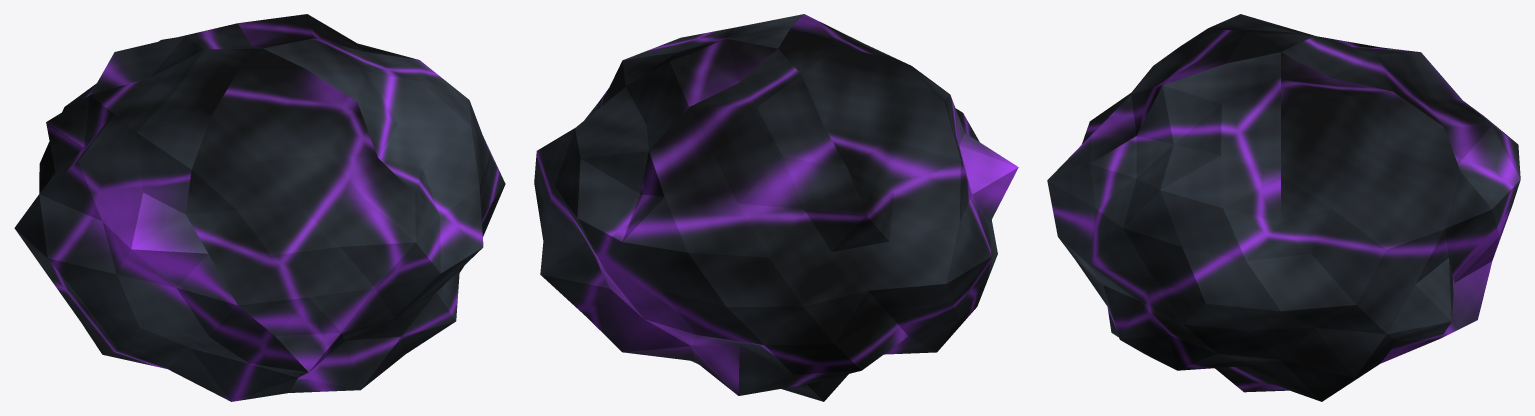
The model's file is ArcaneEmpyreanOre.fbx.
3 renders of one model, left to right at view 1: azimuth 30°, elevation 25°; view 2: azimuth 150°, elevation 25°; view 3: azimuth 270°, elevation 25°, orthographic. The views are drawn at different scales.
Visible parts, largest first — view 1: Fractured mineral matrix.002; view 2: Fractured mineral matrix.002; view 3: Fractured mineral matrix.002.
Boxes of the visible parts, left/top/right/bottom form: Fractured mineral matrix.002: left=14, top=14, right=505, bottom=401; Fractured mineral matrix.002: left=534, top=14, right=1018, bottom=401; Fractured mineral matrix.002: left=1047, top=14, right=1520, bottom=401.
Size of the model in its own units: 0.3489 by 0.2498 by 0.3358.
